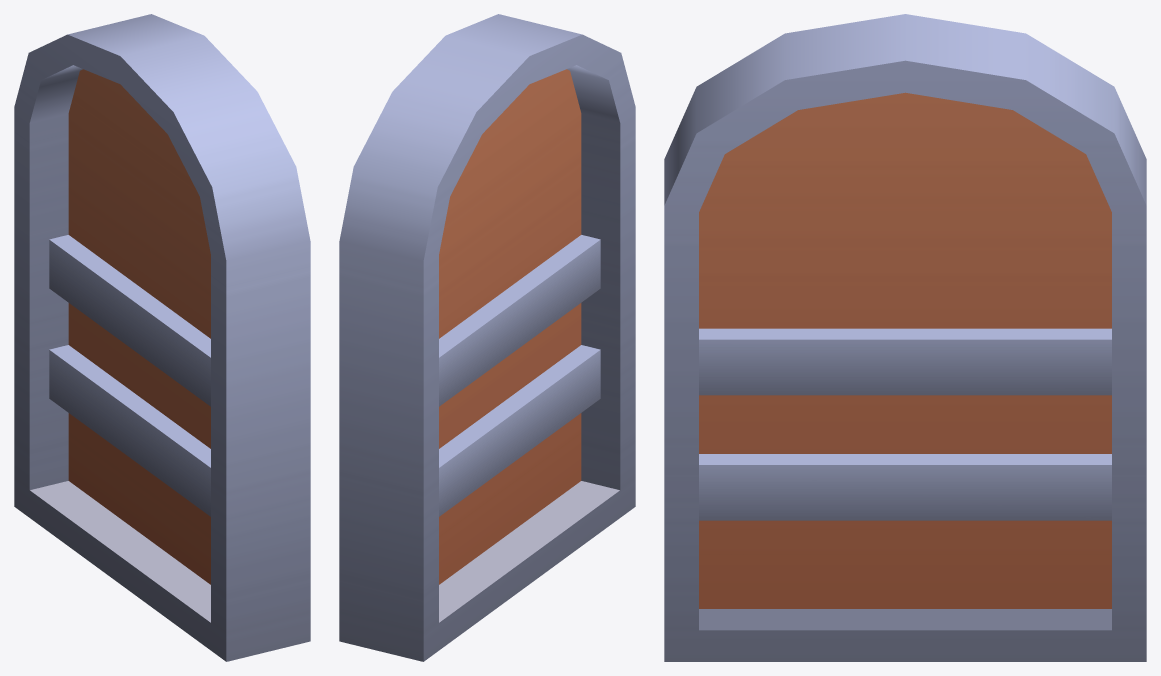
File: gate.obj
3 renders of one model, left to right at view 1: azimuth 30°, elevation 25°; view 2: azimuth 150°, elevation 25°; view 3: azimuth 270°, elevation 25°, orthographic. The views are drawn at different scales.
Parts seen in each view (by area): view 1: gate; view 2: gate; view 3: gate.
Part boxes in pixels (x1,y1,x2,y2): gate: [14, 14, 310, 661]; gate: [339, 14, 635, 661]; gate: [664, 14, 1146, 661].
Bounding box in the file's own units: 0.1516 × 0.9103 × 0.6622.
Materials: 1 (1 with a texture image).
